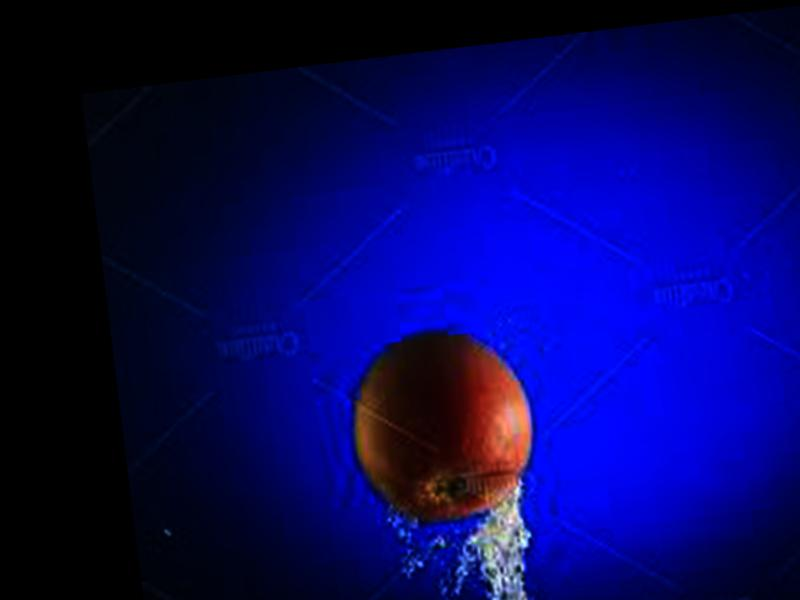Tomato: (340, 327, 542, 531)
